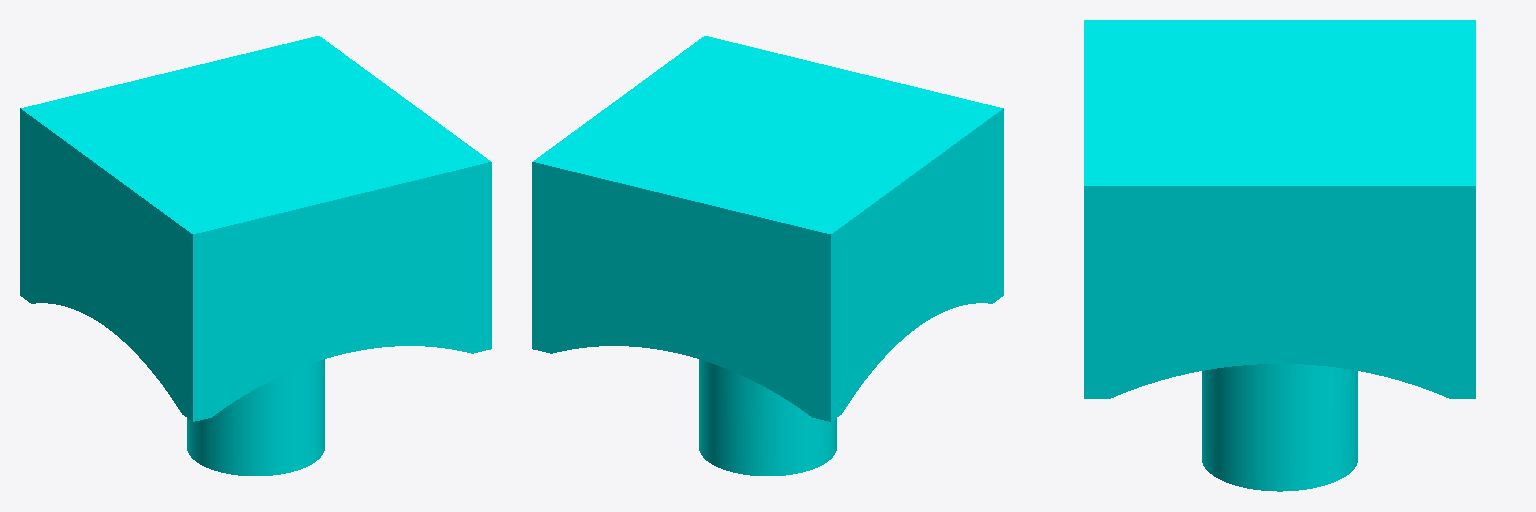
URDF robot description (centre02):
<robot name="centre02">
  <link name="centre02">
    <contact>
      <rolling_friction value="0.001"/>
      <spinning_friction value="0.001"/>
    </contact>
    <visual>
      <origin rpy="0 0 0" xyz="0 0 0"/>
      <geometry>
		<mesh filename="centre02.stl" scale="0.001 0.001 0.001"/>
      </geometry>
      <material name="cyan">
        <color rgba="0 1.0 1.0 1.0"/>
      </material>
    </visual>
    <collision>
      <origin rpy="0 0 0" xyz="0 0 0"/>
      <geometry>
	    <mesh filename="centre02.stl" scale="0.001 0.001 0.001"/>
      </geometry>
    </collision>
    </link>
</robot>

--- Facts derived from the render (not from the file) ---
Views: 3 orthographic renders of the robot side by side, from view 1: azimuth 30°, elevation 25°; view 2: azimuth 150°, elevation 25°; view 3: azimuth 270°, elevation 25°.
Robot: centre02 — 1 links, 0 joints (none); root link centre02; default pose: all joints at 0.
Visible links, largest first — view 1: centre02; view 2: centre02; view 3: centre02.
Link boxes in pixels (bbox=[...]): centre02: bbox=[20, 36, 491, 475]; centre02: bbox=[532, 36, 1003, 475]; centre02: bbox=[1084, 20, 1475, 491].
Size in the robot's own frame: 0.019 by 0.0191 by 0.019 metres.
1 mesh visuals loaded from 1 distinct referenced files (1 binary STL).